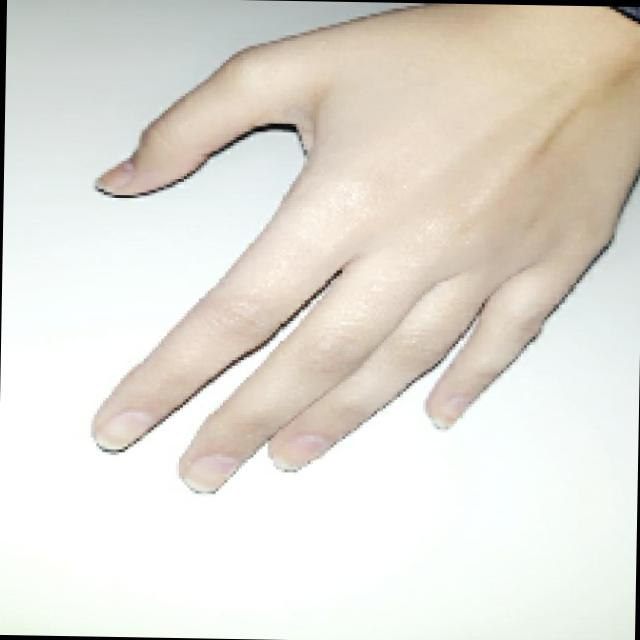Nail: (181, 453, 239, 492), (271, 433, 330, 471), (94, 410, 150, 448), (95, 156, 135, 187), (432, 396, 470, 427)
